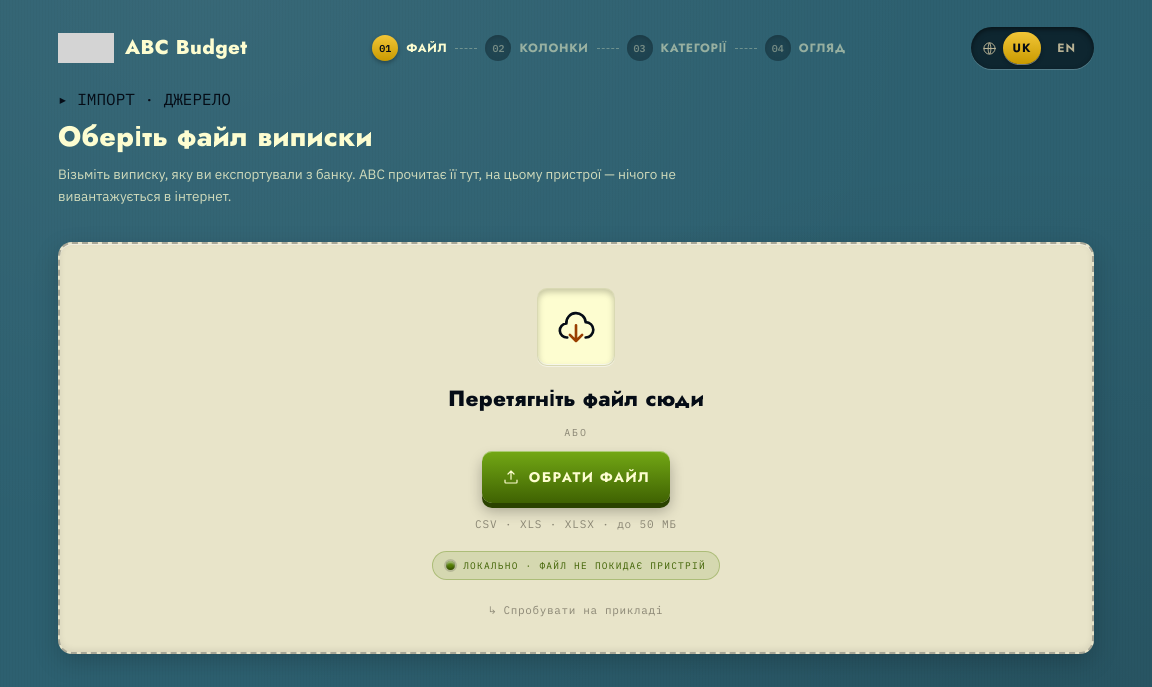
Test: ImportFlow — transitions through the real components › sample link → fetch → the same recognized path
The image size is (1152, 687).
Click the button "↳ Спробувати на прикладі" at (576,610), box [484, 598, 668, 622]
(page scrolled)
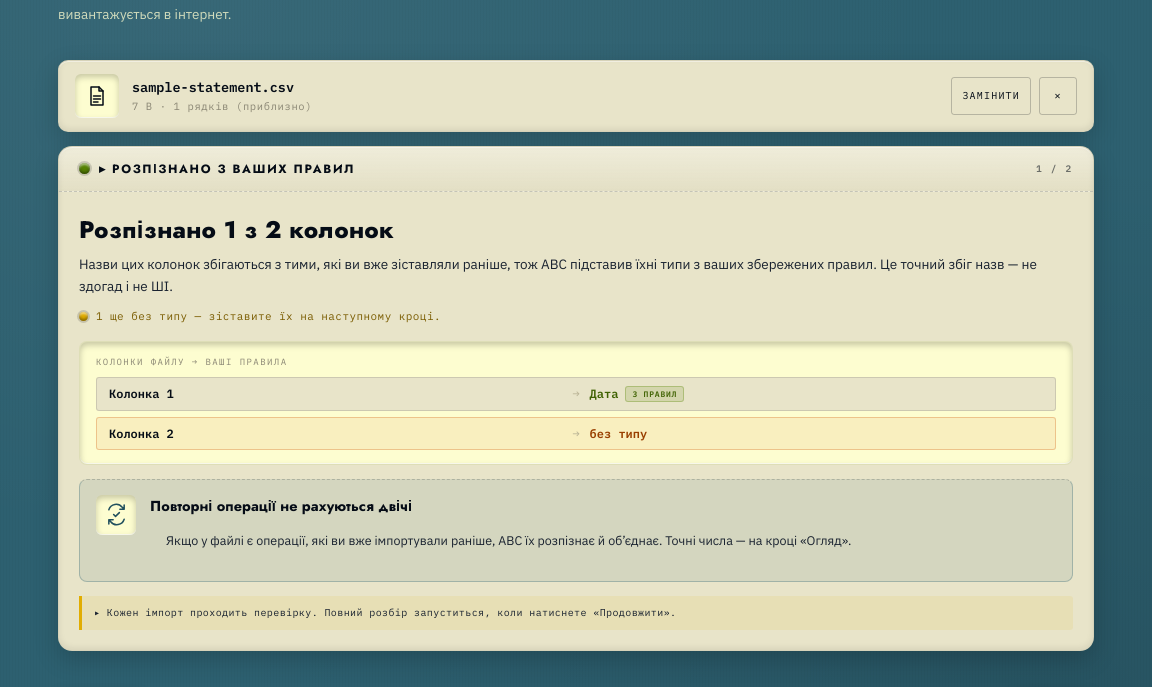
expect the element with test id "s3a-recognized" is shown: met
